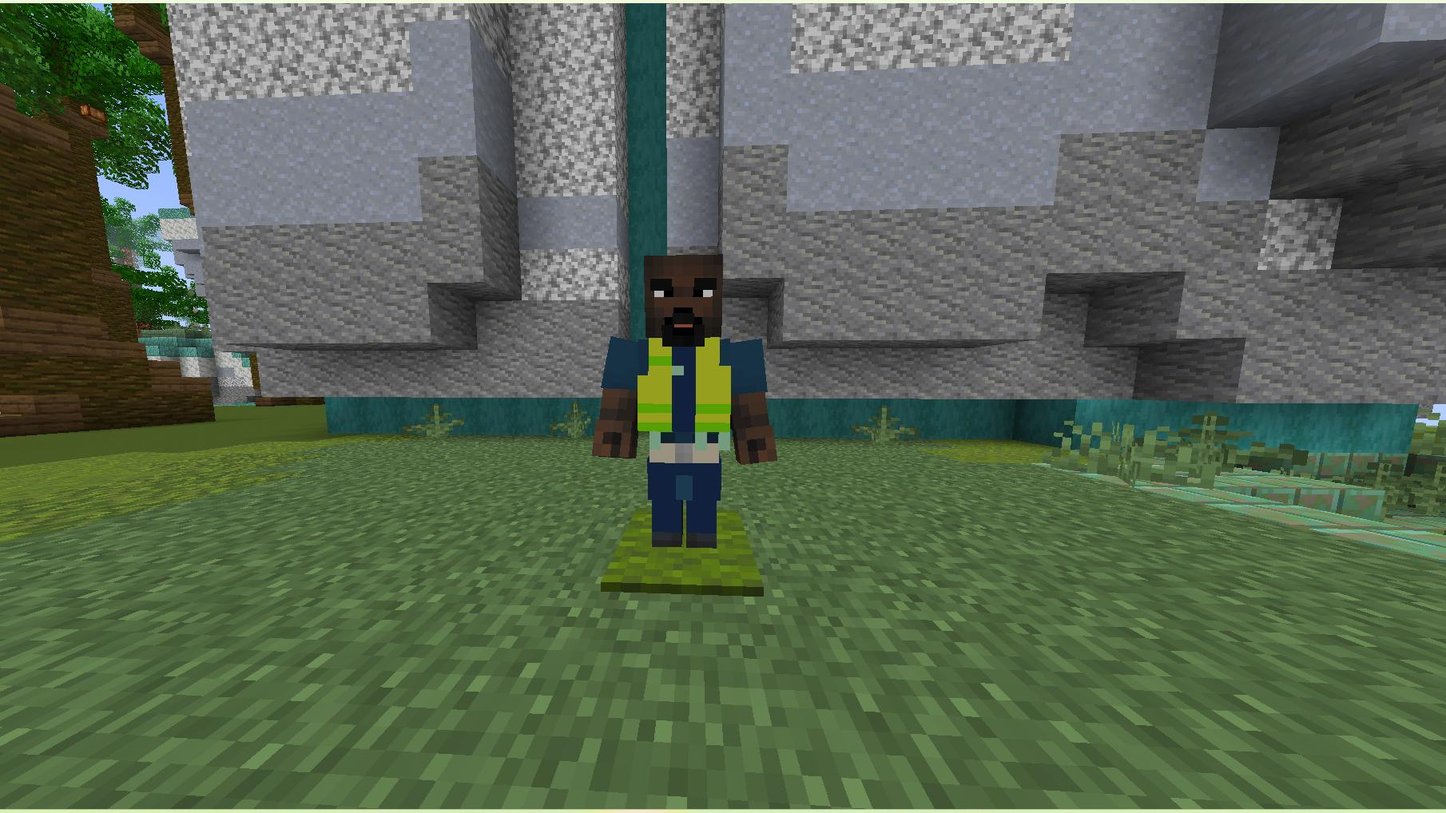Guardian: (594, 255, 777, 549)
